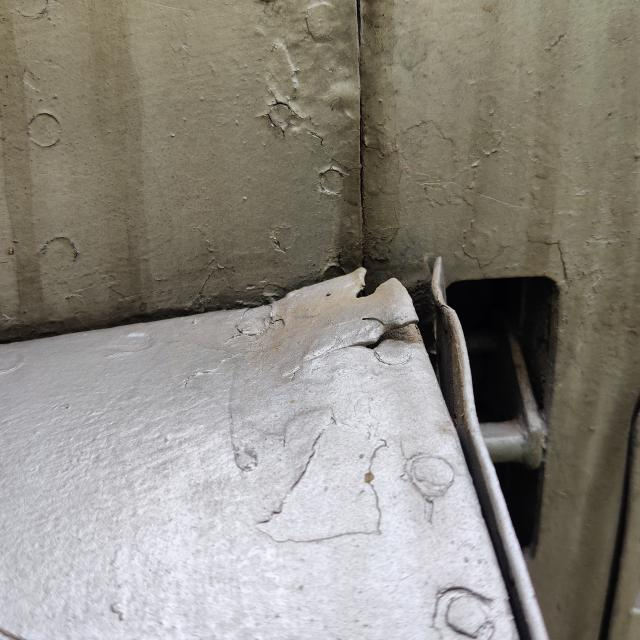crack: (338, 307, 429, 369)
